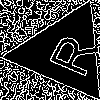R: (38, 27, 100, 79)
